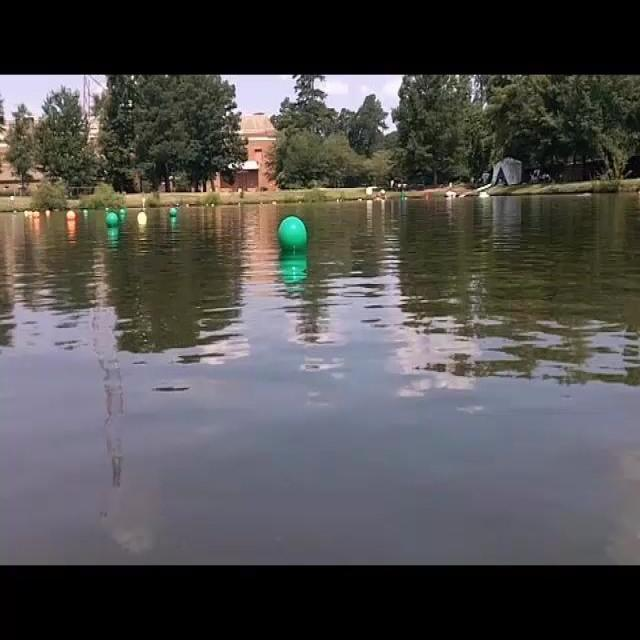buoy: (277, 214, 308, 254)
